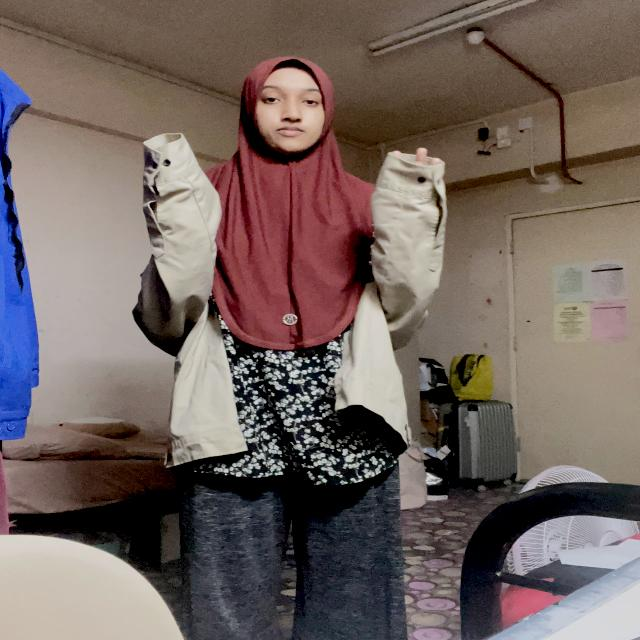person_without_labcoat: (133, 57, 444, 640)
